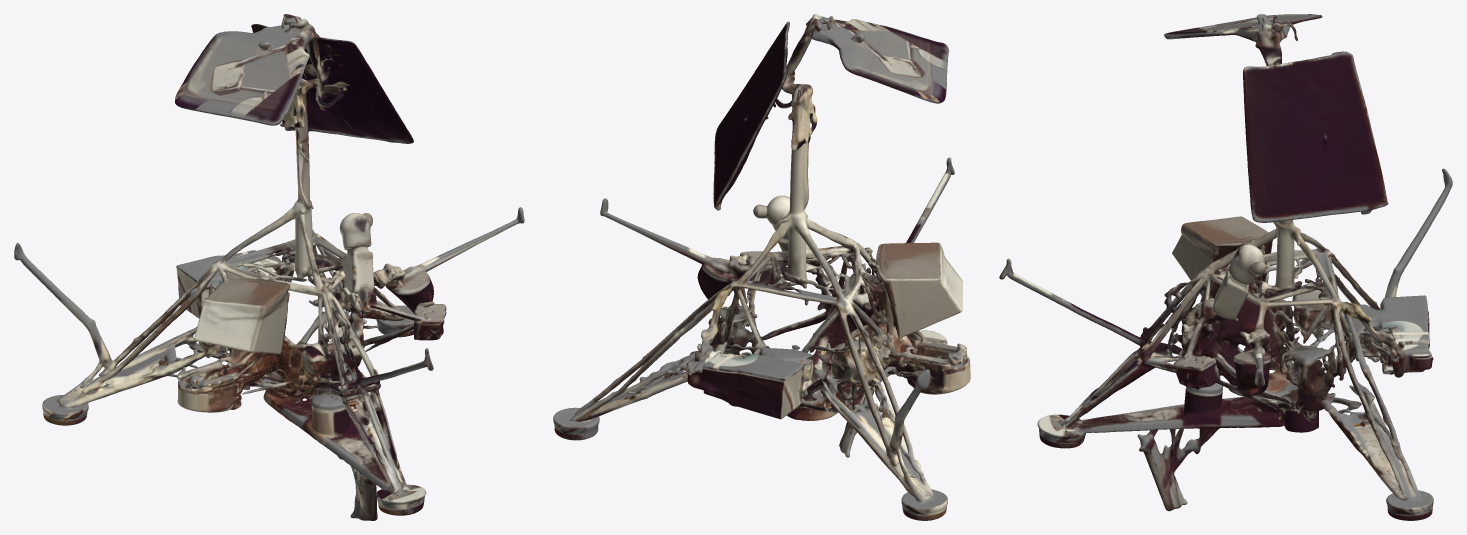
File: mars rover 3d model.glb
3 renders of one model, left to right at view 1: azimuth 30°, elevation 25°; view 2: azimuth 150°, elevation 25°; view 3: azimuth 270°, elevation 25°, orthographic.
Parts seen in each view (by area): view 1: tripo_node_6f17fbf9-aef7-4d70-89ef-981d235f7f07; view 2: tripo_node_6f17fbf9-aef7-4d70-89ef-981d235f7f07; view 3: tripo_node_6f17fbf9-aef7-4d70-89ef-981d235f7f07.
Boxes of the visible parts, <box> form: tripo_node_6f17fbf9-aef7-4d70-89ef-981d235f7f07: <box>14,14,524,520</box>; tripo_node_6f17fbf9-aef7-4d70-89ef-981d235f7f07: <box>553,14,970,520</box>; tripo_node_6f17fbf9-aef7-4d70-89ef-981d235f7f07: <box>999,14,1452,520</box>.
Size of the model in its own units: 0.9207 by 1 by 0.8581.
Materials: 1 (1 with a texture image).
